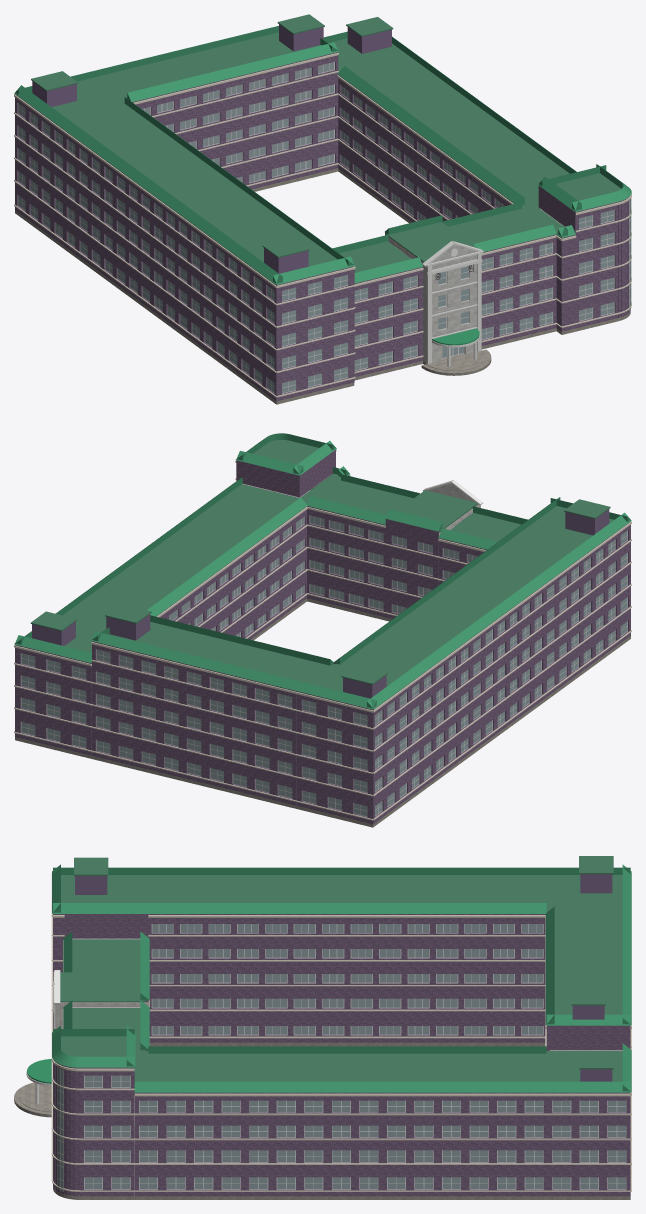
3 renders of one model, top to bottom at view 1: azimuth 30°, elevation 25°; view 2: azimuth 150°, elevation 25°; view 3: azimuth 270°, elevation 25°, orthographic. The views are drawn at different scales.
Parts seen in each view (by area): view 1: main__brick, main__roofgreen, main__mansard, main__glass, main__band, main__frame, main__sideglass, main__cream, main__penthouse, main__stone, main__creamtrim, main__threshold-main-entry; view 2: main__brick, main__roofgreen, main__glass, main__mansard, main__band, main__frame, main__sideglass, main__stone, main__penthouse; view 3: main__brick, main__roofgreen, main__mansard, main__glass, main__band, main__sideglass, main__frame, main__stone, main__penthouse, main__threshold-main-entry, main__cream, main__creamtrim (+1 smaller).
Boxes of the visible parts, box(x1,y1,x2,y2) form: main__brick: box(15, 52, 630, 401); main__roofgreen: box(31, 14, 621, 272); main__mansard: box(14, 26, 631, 284); main__glass: box(18, 103, 614, 393); main__band: box(14, 52, 631, 397); main__frame: box(18, 61, 631, 393); main__sideglass: box(142, 62, 631, 310); main__cream: box(385, 234, 478, 363); main__penthouse: box(32, 24, 391, 273); main__stone: box(15, 168, 630, 404); main__creamtrim: box(422, 241, 483, 366); main__threshold-main-entry: box(421, 349, 491, 375); main__brick: box(15, 449, 630, 824); main__roofgreen: box(30, 440, 613, 691); main__glass: box(21, 477, 627, 816); main__mansard: box(14, 433, 631, 709); main__band: box(14, 449, 631, 820); main__frame: box(21, 515, 627, 816); main__sideglass: box(169, 515, 477, 637); main__stone: box(15, 598, 630, 827); main__penthouse: box(32, 509, 609, 698); main__brick: box(53, 914, 630, 1196); main__roofgreen: box(60, 856, 622, 1093); main__mansard: box(52, 864, 631, 1092); main__glass: box(84, 1075, 625, 1188); main__band: box(51, 873, 631, 1191); main__sideglass: box(57, 924, 542, 1191); main__frame: box(57, 924, 626, 1191); main__stone: box(53, 1042, 630, 1199); main__penthouse: box(75, 874, 612, 1081); main__threshold-main-entry: box(14, 1082, 51, 1117); main__cream: box(55, 1002, 148, 1028); main__creamtrim: box(26, 970, 60, 1104).
Size of the model in its own units: 60.94 by 22.03 by 80.87.
16 materials, 3 textured.
